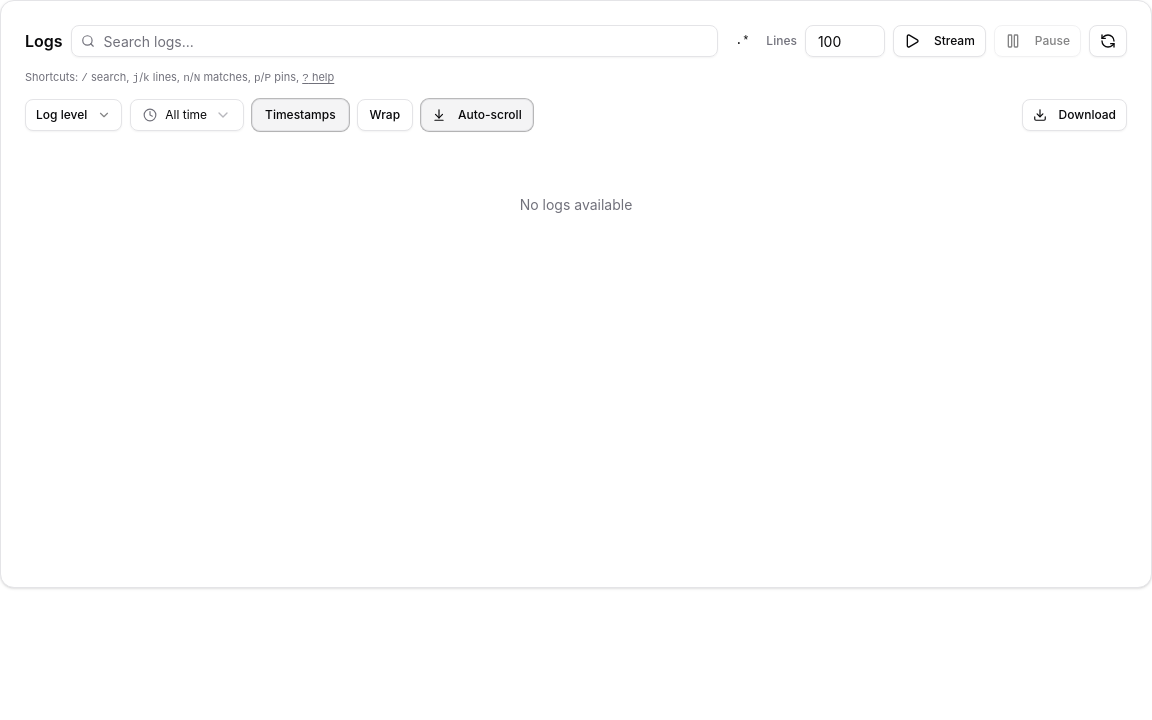
Scenario: LogViewer streaming lifecycle › keeps a started stream alive across the isStreaming state transition
The width and height of the screenshot is (1152, 720).
Click the button "Stream": click(939, 41) [893,25,986,57]
Wait 100 ms
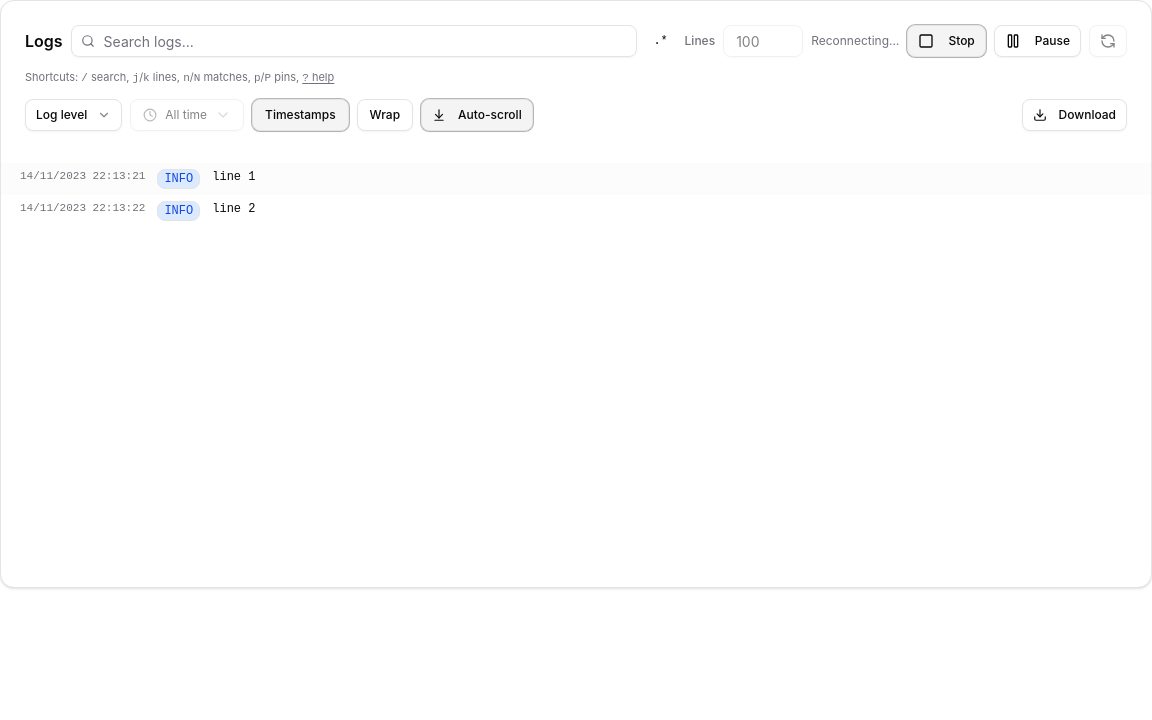
Result: the button "Stop" is shown at [907,25,986,57]
Result: the text "No logs available" is gone
